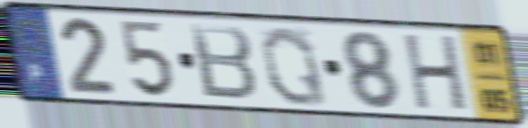2: (60, 15, 123, 97)
5: (115, 18, 177, 99)
8: (340, 28, 406, 111)
B: (186, 21, 260, 104)
H: (402, 32, 471, 115)
Q: (258, 23, 331, 109)
